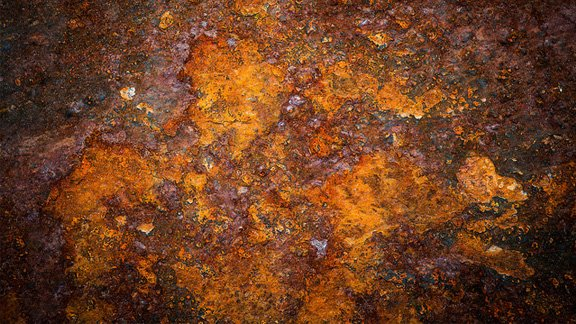rust: (4, 4, 575, 322)
